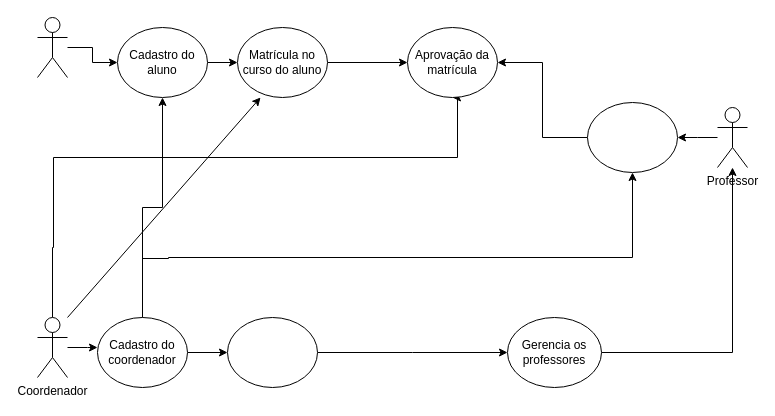
This 775x416 diagram has some shape labels left out. Here are the shapes that lost their labels. From the top down, the centre of each, then its label:
At point 52,47: "Aluno".
At point 632,137: "Cadastro do professor".
At point 272,352: "Gerencia os cursos".
